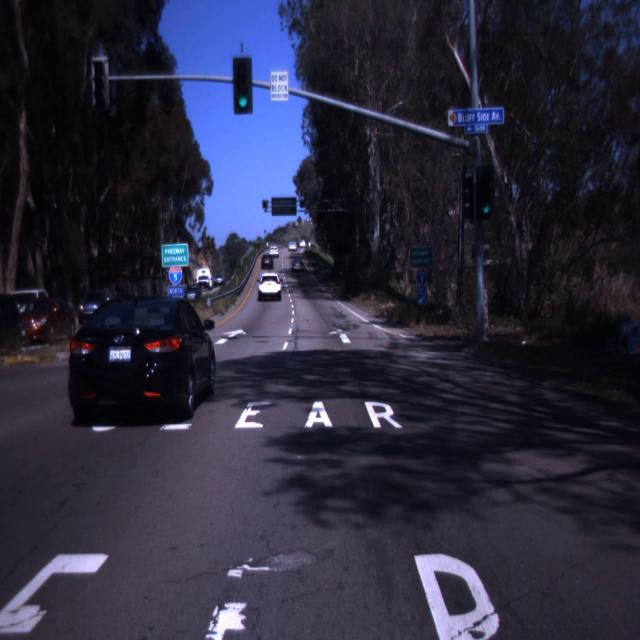arka_lamba: (87, 53, 117, 120)
yesil: (232, 58, 253, 115)
